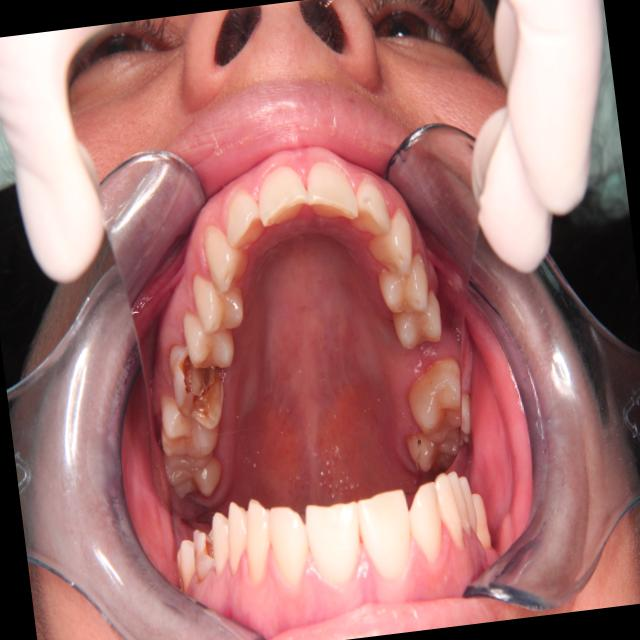tooth: (396, 347, 473, 450), (162, 334, 235, 437), (153, 381, 226, 467), (180, 259, 254, 342), (194, 218, 258, 300), (176, 296, 239, 376), (300, 150, 361, 230), (381, 285, 450, 354), (359, 202, 419, 281), (371, 248, 436, 319), (252, 161, 314, 234), (158, 442, 228, 506), (345, 162, 398, 243), (400, 412, 467, 476), (219, 182, 270, 257)
